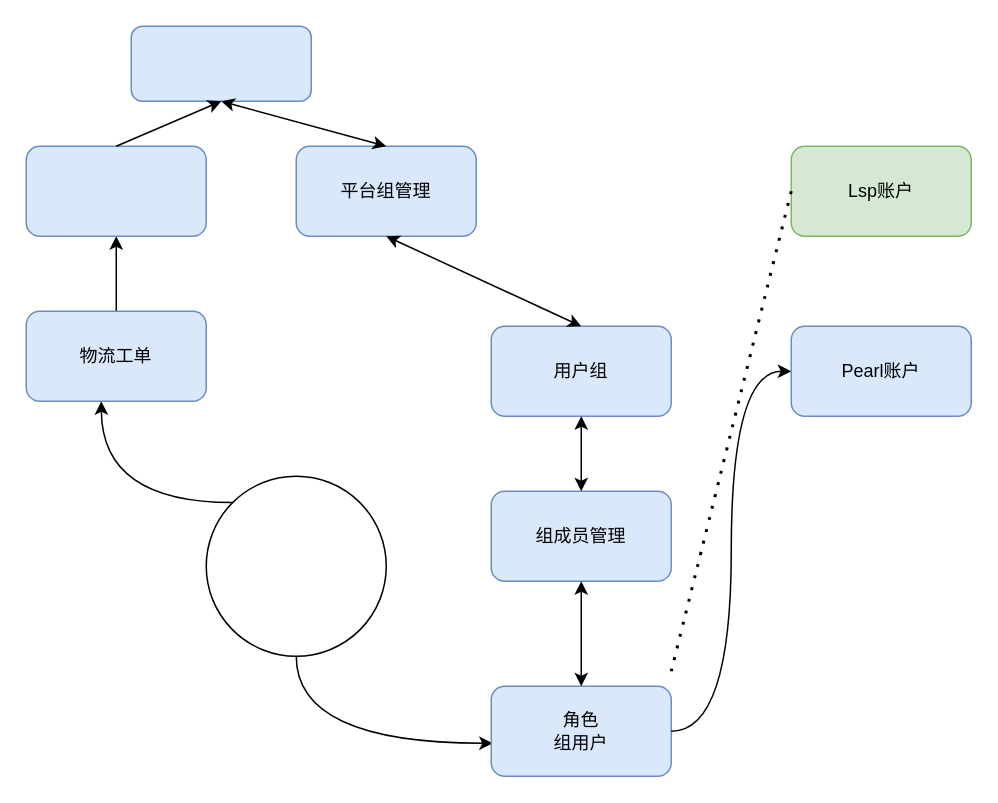
This 998x803 diagram has some shape labels left out. The shapes that lost their labels are listed below. From the top down, each one's box as (x1, y1, x2, y2) in pixels, then its label:
(130, 25, 311, 101): 平台
(25, 145, 206, 236): 物流包裹
(205, 475, 386, 656): 工单 数据模型
